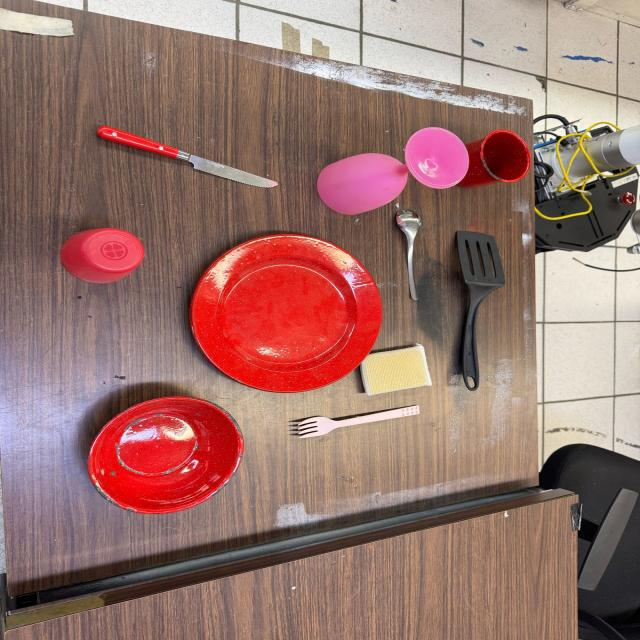cup: (453, 126, 536, 192)
fork: (284, 403, 420, 441)
glass: (55, 226, 146, 286)
knife: (96, 124, 281, 191)
plate: (188, 231, 386, 397)
spatula: (452, 226, 508, 392)
sponge: (358, 342, 437, 394)
spoon: (398, 206, 425, 306)
tazon: (84, 395, 245, 516)
wineglass: (316, 125, 471, 218)
